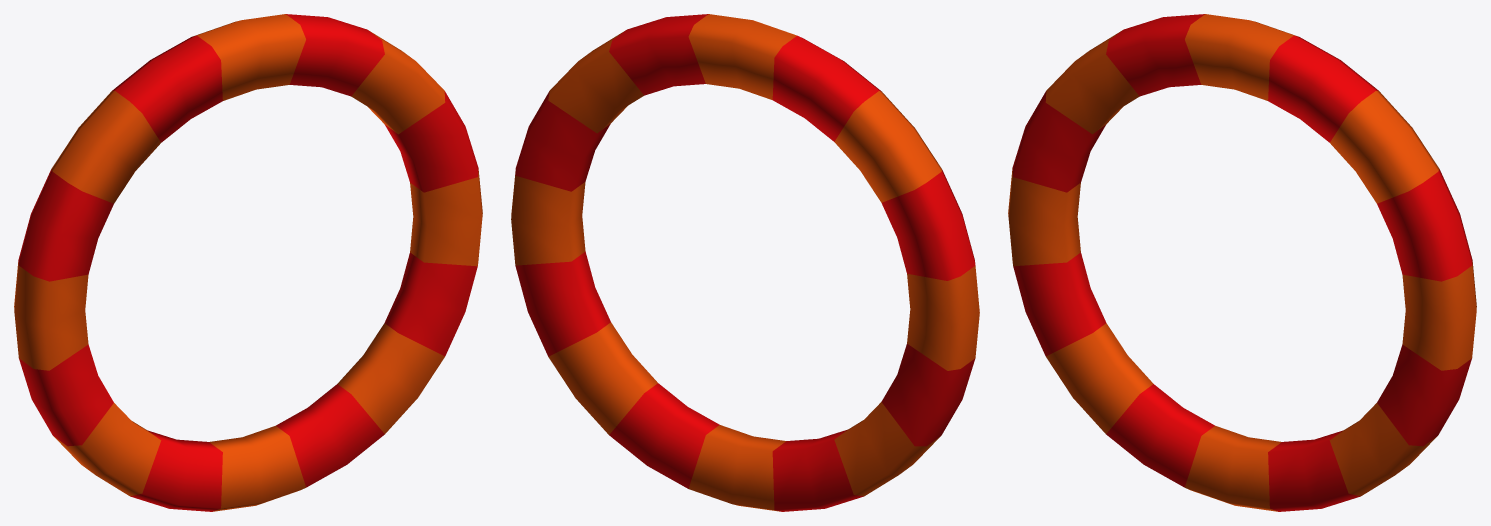
The model's file is ring_red.glb.
The picture shows the model from 3 angles, left to right: view 1: azimuth 30°, elevation 25°; view 2: azimuth 150°, elevation 25°; view 3: azimuth 330°, elevation 25°; orthographic projection.
Visible parts, largest first — view 1: Object_97; view 2: Object_97; view 3: Object_97.
Part boxes in pixels (left/top/right/bottom): Object_97: left=14, top=14, right=482, bottom=511; Object_97: left=511, top=14, right=979, bottom=511; Object_97: left=1008, top=14, right=1476, bottom=511.
Size of the model in its own units: 6.07 by 6.07 by 0.6775.
